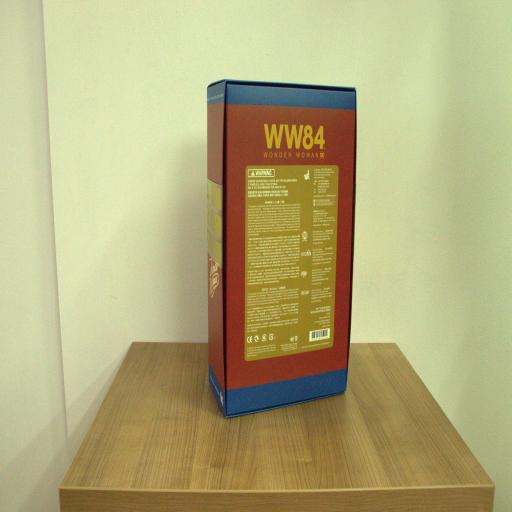WonderWoman: (205, 78, 358, 418)
